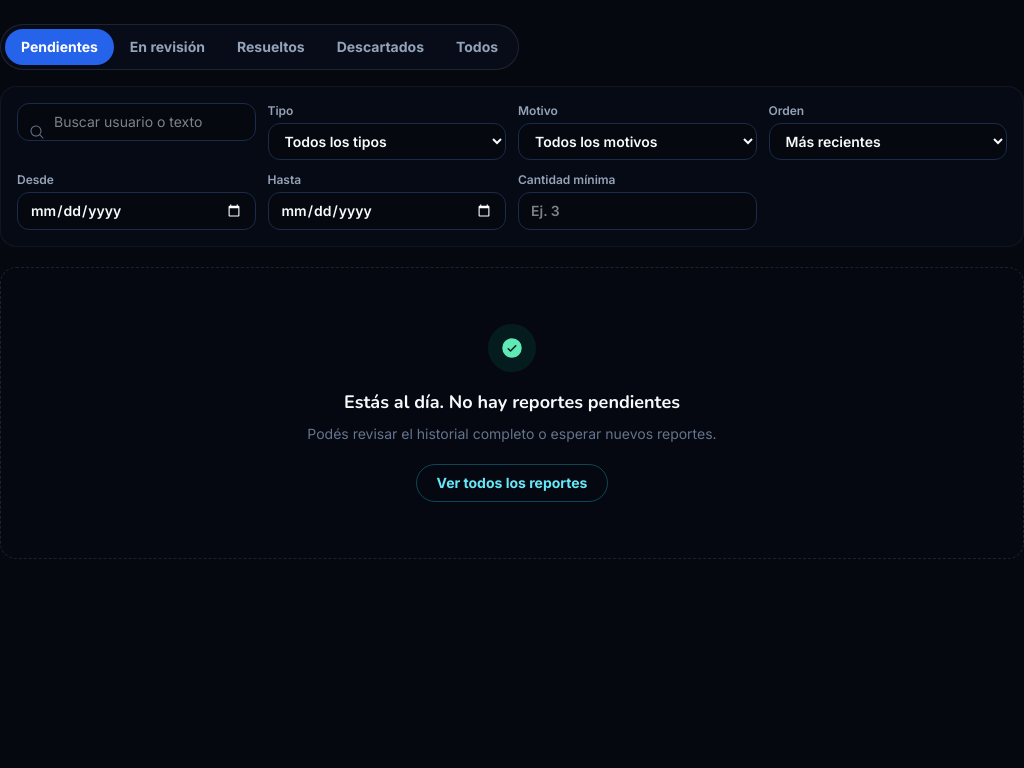
ReportesSeccion › muestra pendientes por defecto y permite ver todos desde el estado vacío
The width and height of the screenshot is (1024, 768).
Check: the heading "Estás al día. No hay reportes pendientes" is shown, box left=344, top=388, right=680, bottom=416
Click the button "Ver todos los reportes" at coordinates (512, 483), box left=416, top=464, right=608, bottom=502
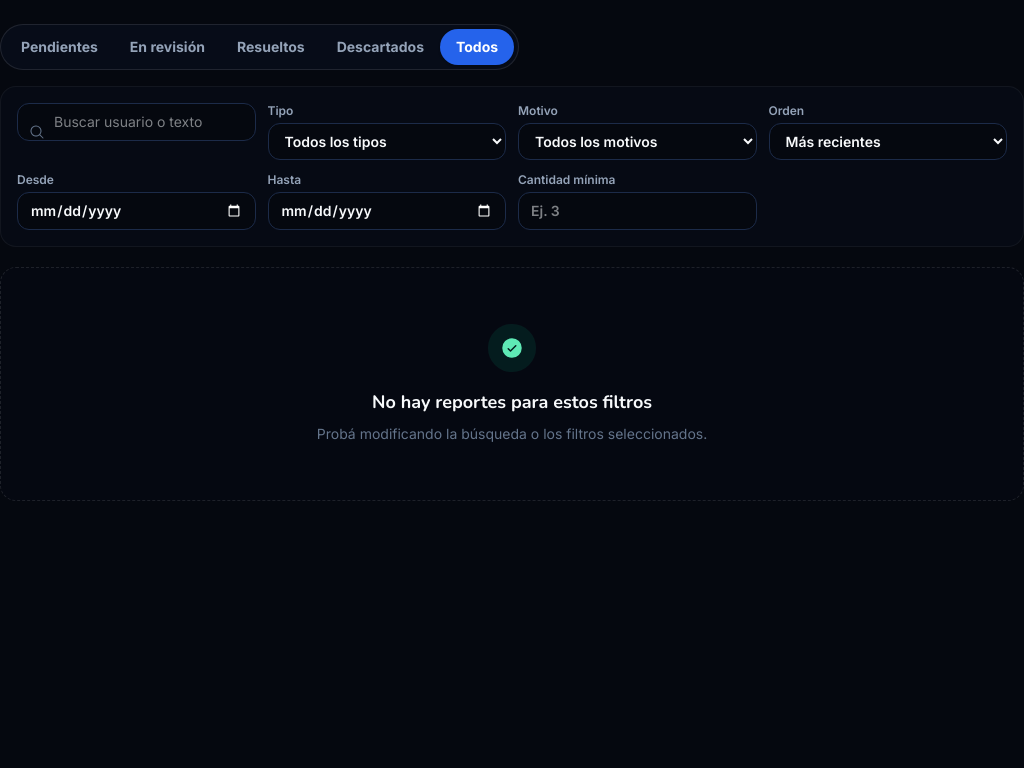
Check: the heading "No hay reportes para estos filtros" is shown, box left=372, top=388, right=652, bottom=416
